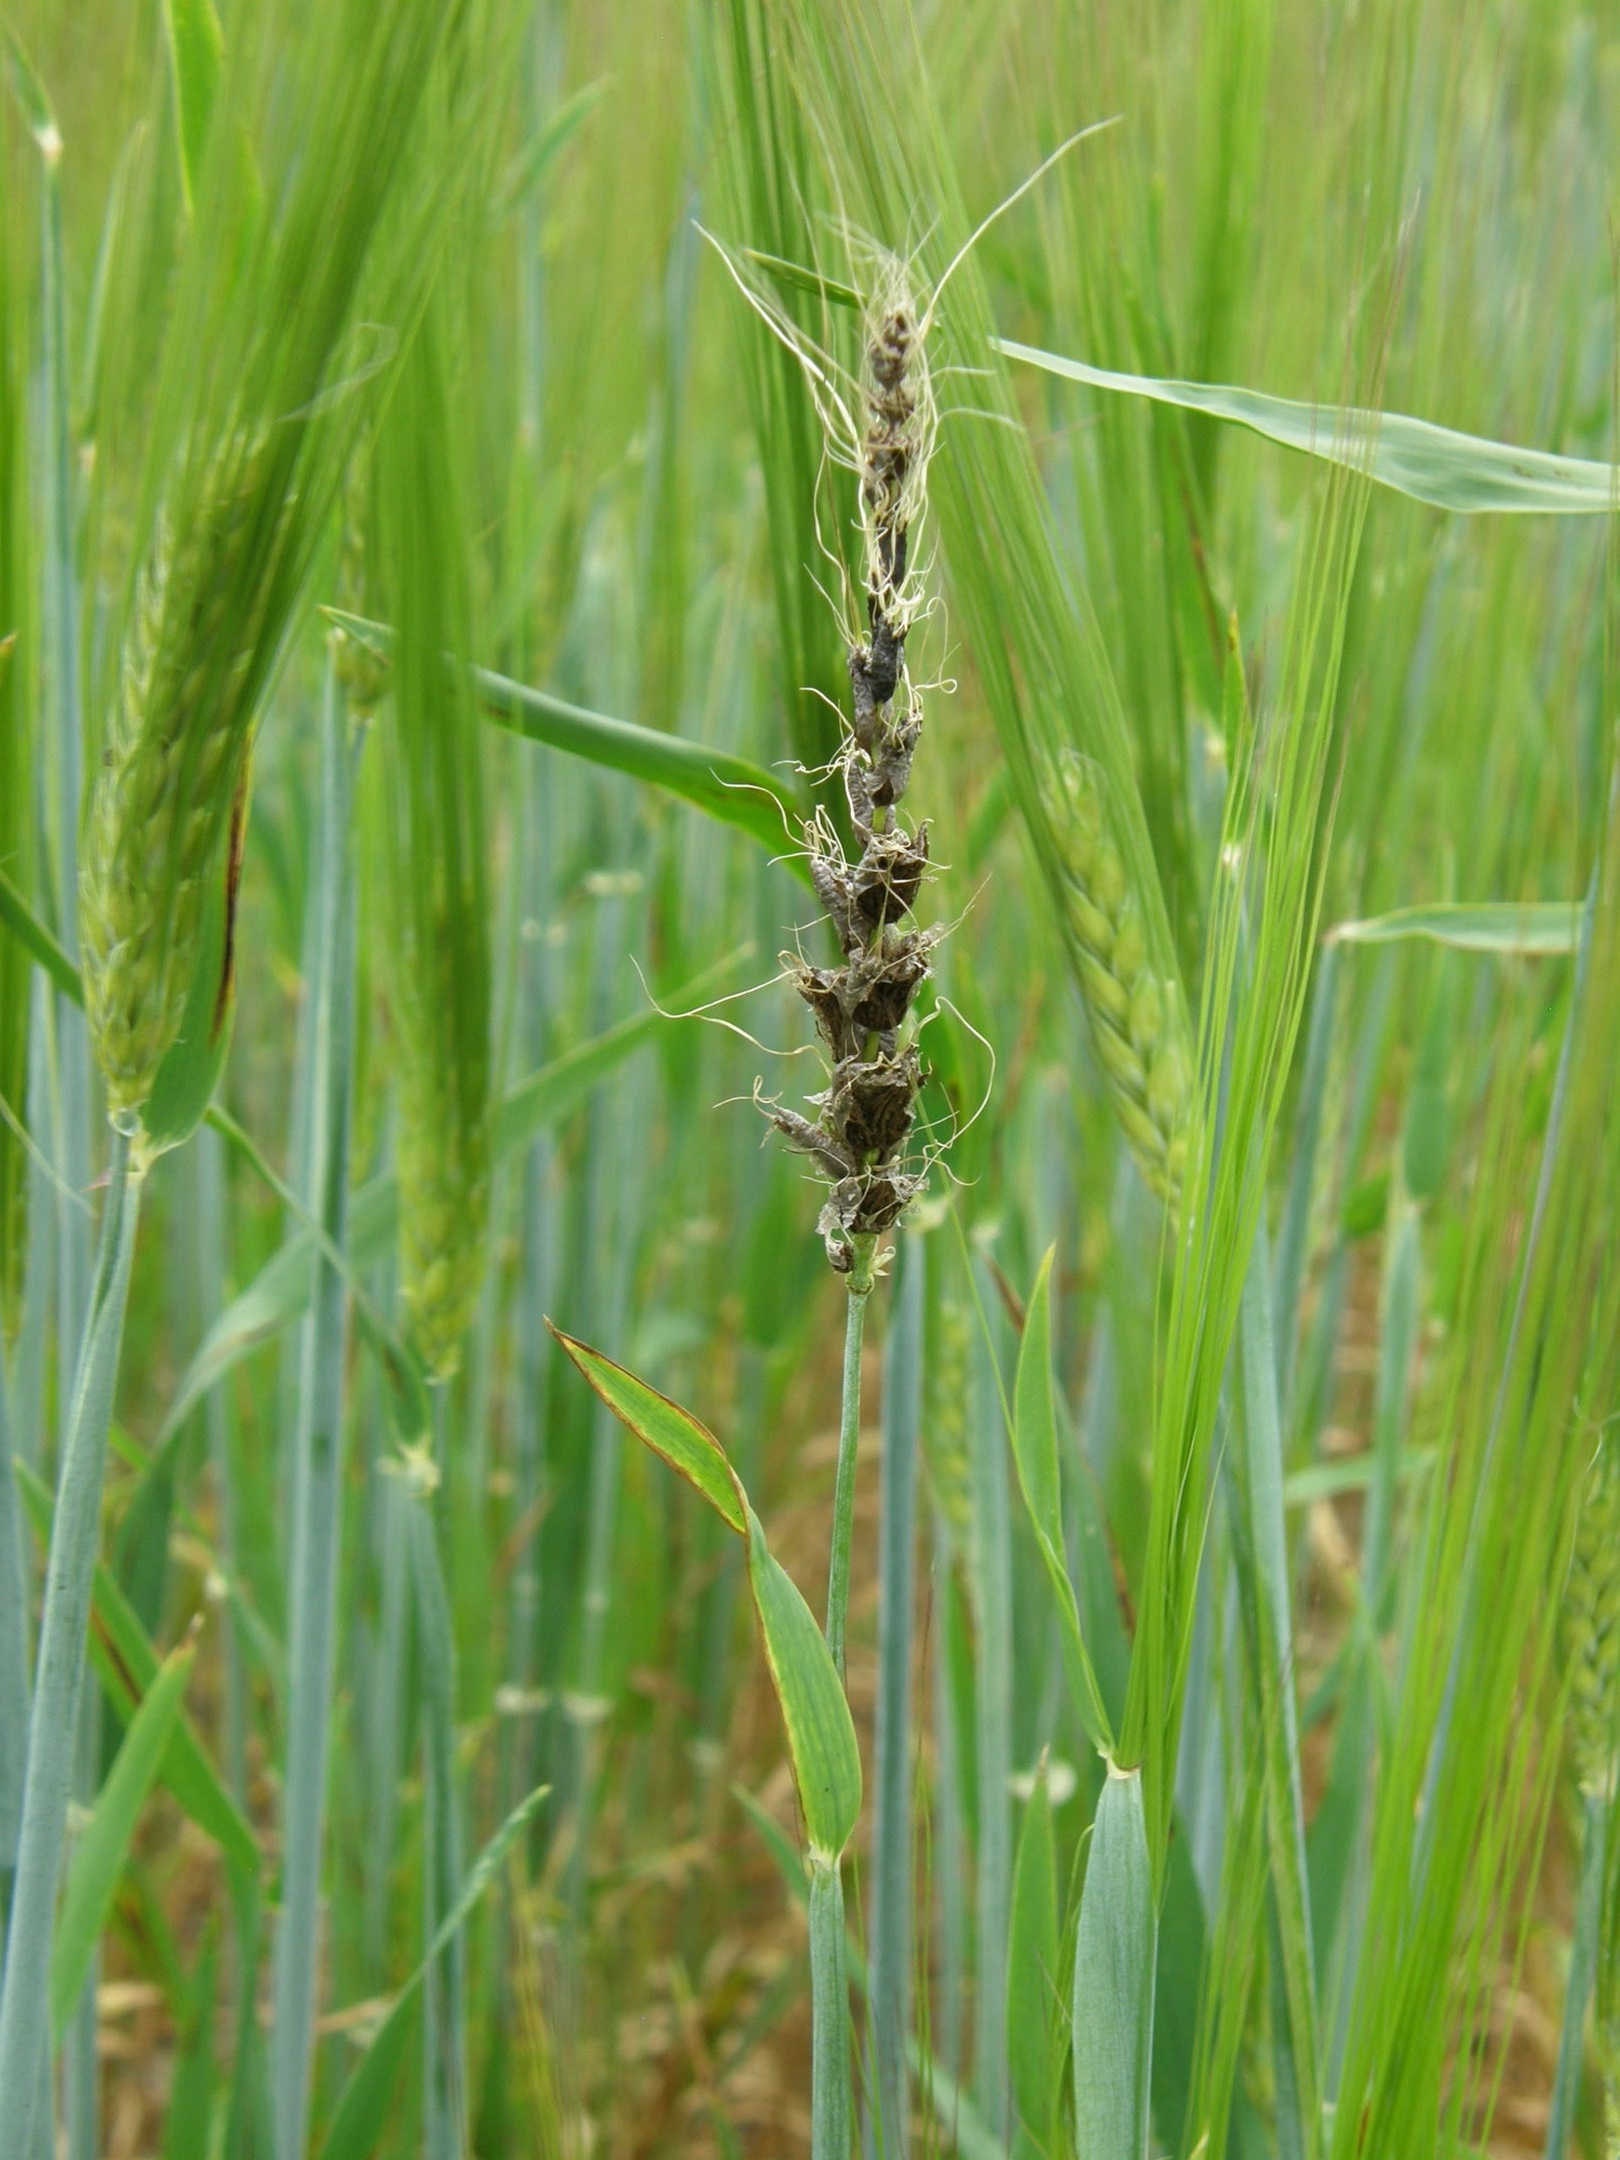Wheat Loose Smut: (739, 259, 972, 1242)
